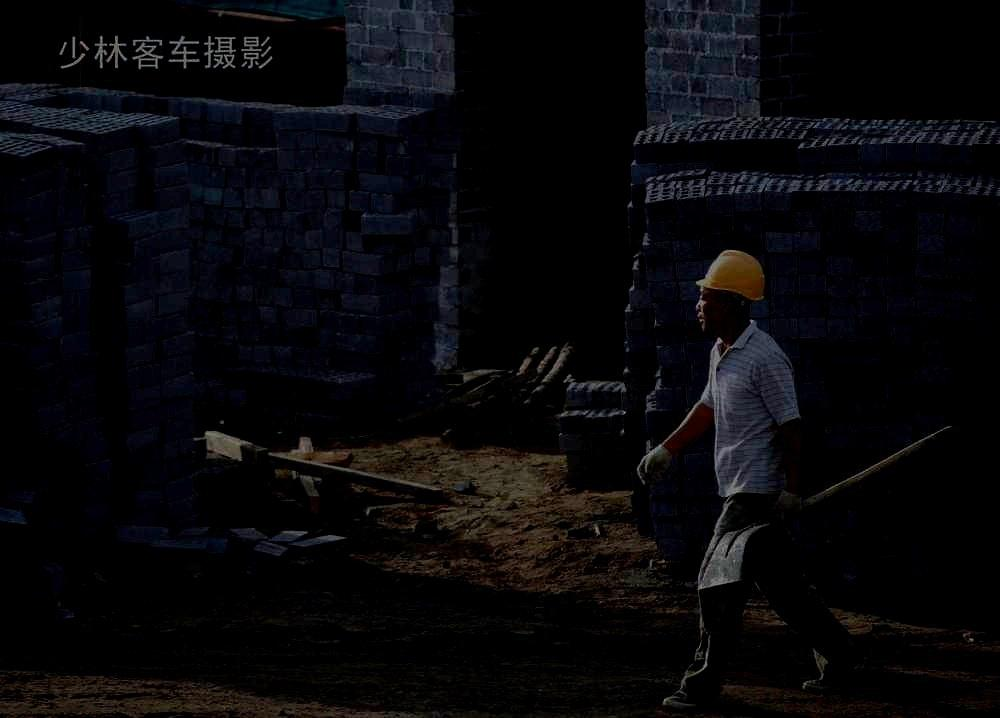helmet: (694, 249, 764, 336)
